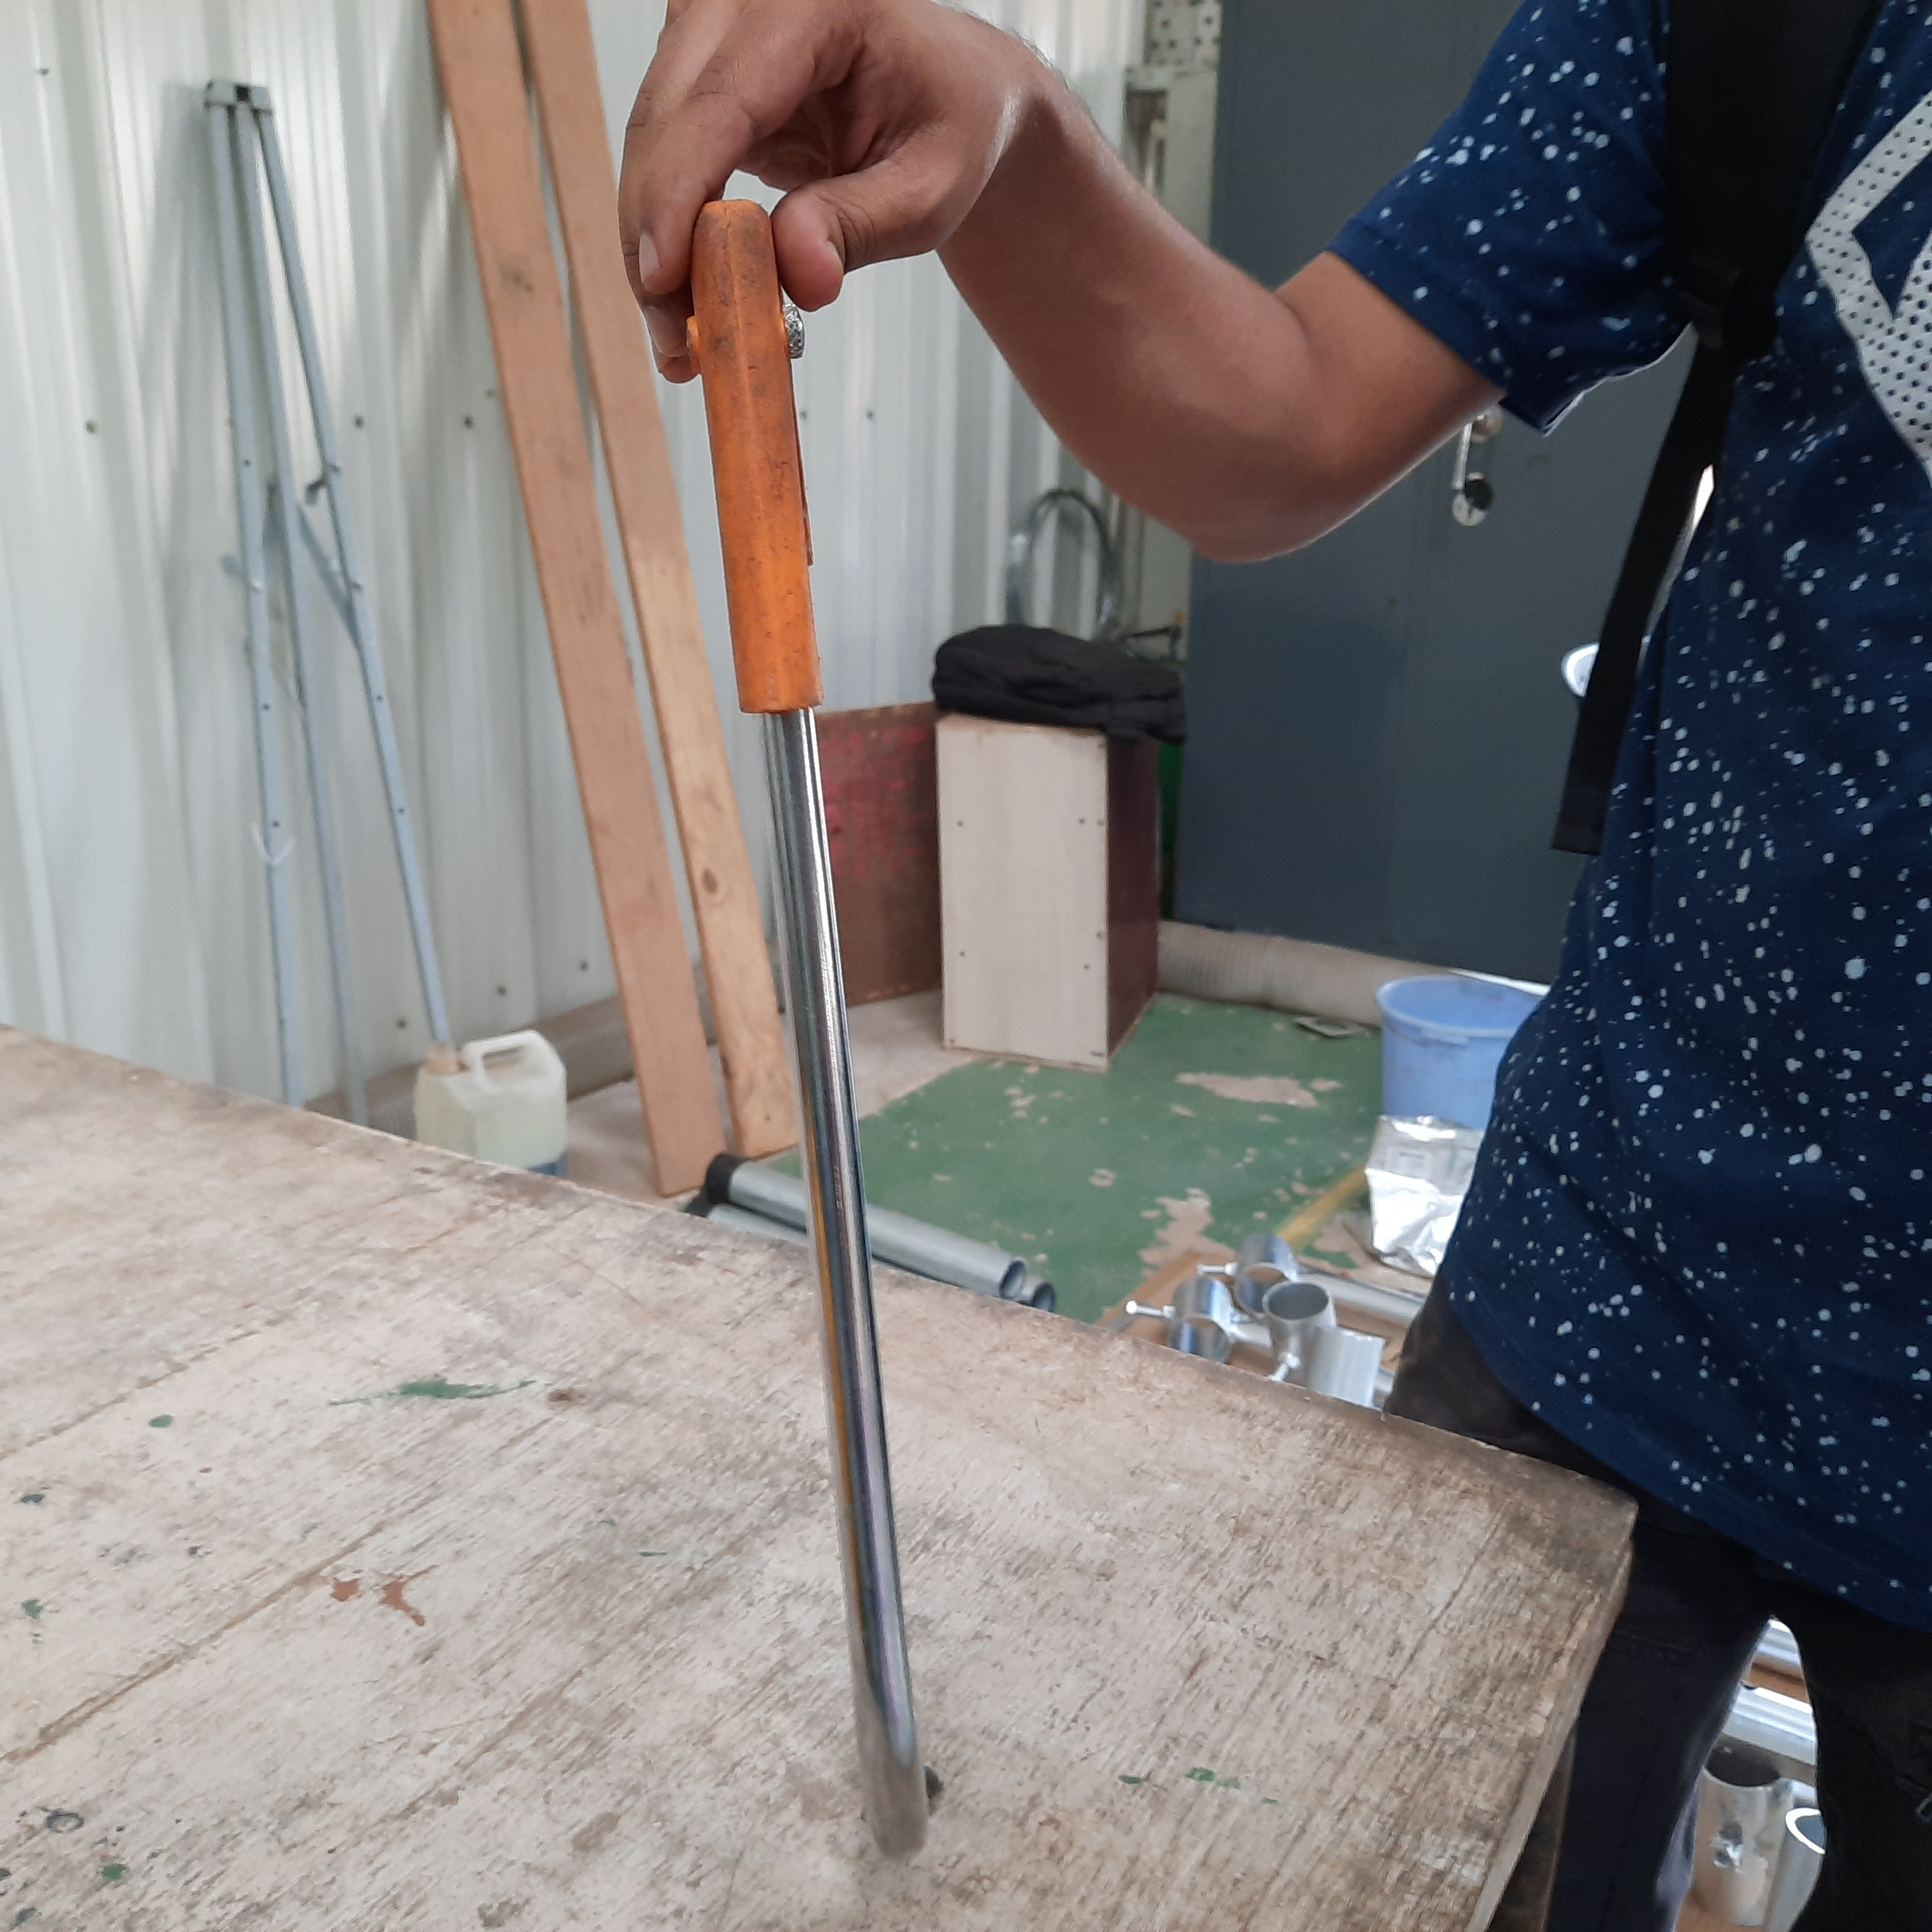Hexaframe: (586, 196, 1063, 1890)
